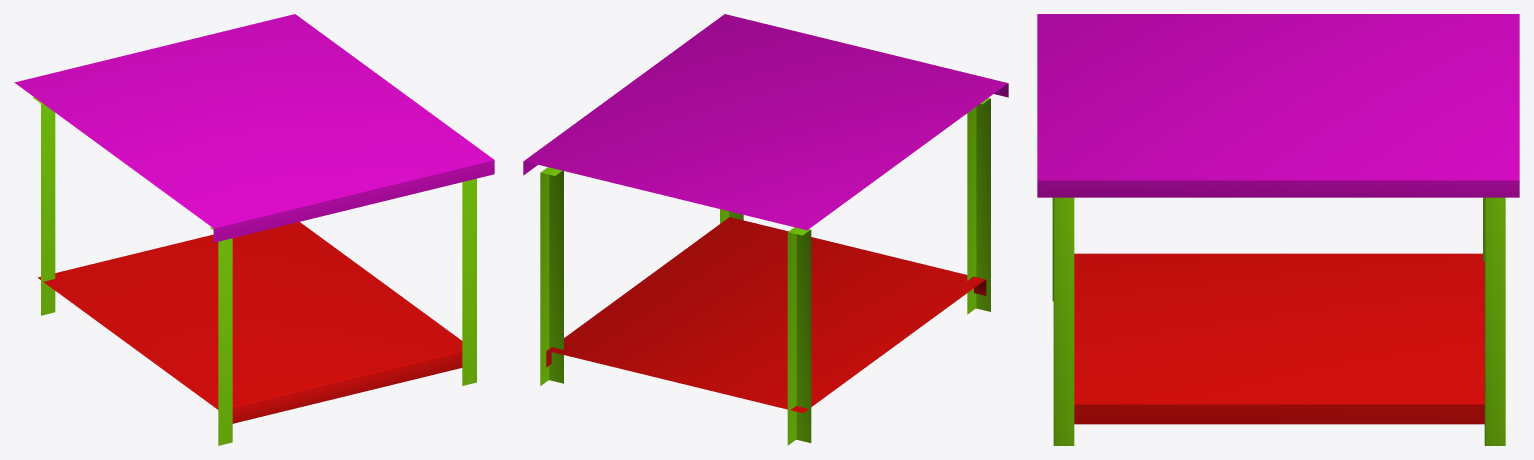
The model's file is countertop_4.fbx.
3 renders of one model, left to right at view 1: azimuth 30°, elevation 25°; view 2: azimuth 150°, elevation 25°; view 3: azimuth 270°, elevation 25°, orthographic. The views are drawn at different scales.
Visible parts, largest first — view 1: countertop_4; view 2: countertop_4; view 3: countertop_4.
Part boxes in pixels (x1,y1,x2,y2): countertop_4: (14, 14, 494, 445); countertop_4: (523, 14, 1008, 445); countertop_4: (1037, 14, 1519, 445).
Size of the model in its own units: 14.57 by 17.89 by 11.13.
